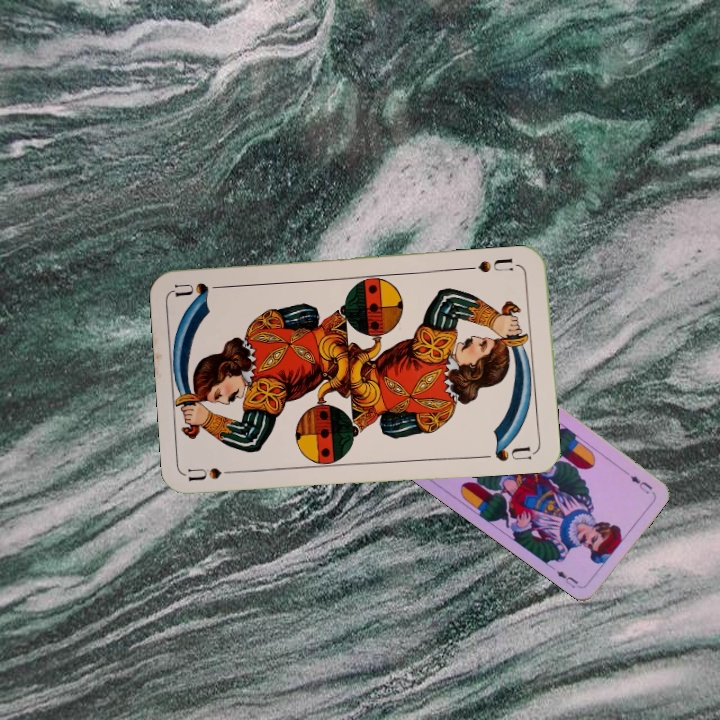EU: (626, 471, 655, 496)
SU: (186, 464, 245, 484), (463, 254, 515, 275)
